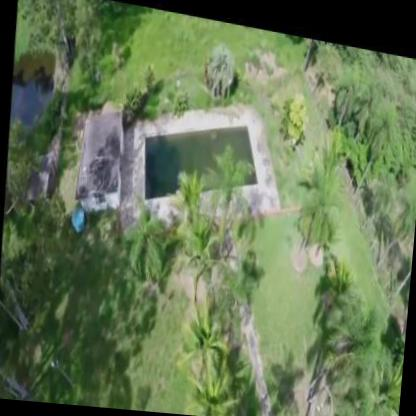agua: (158, 112, 249, 210)
